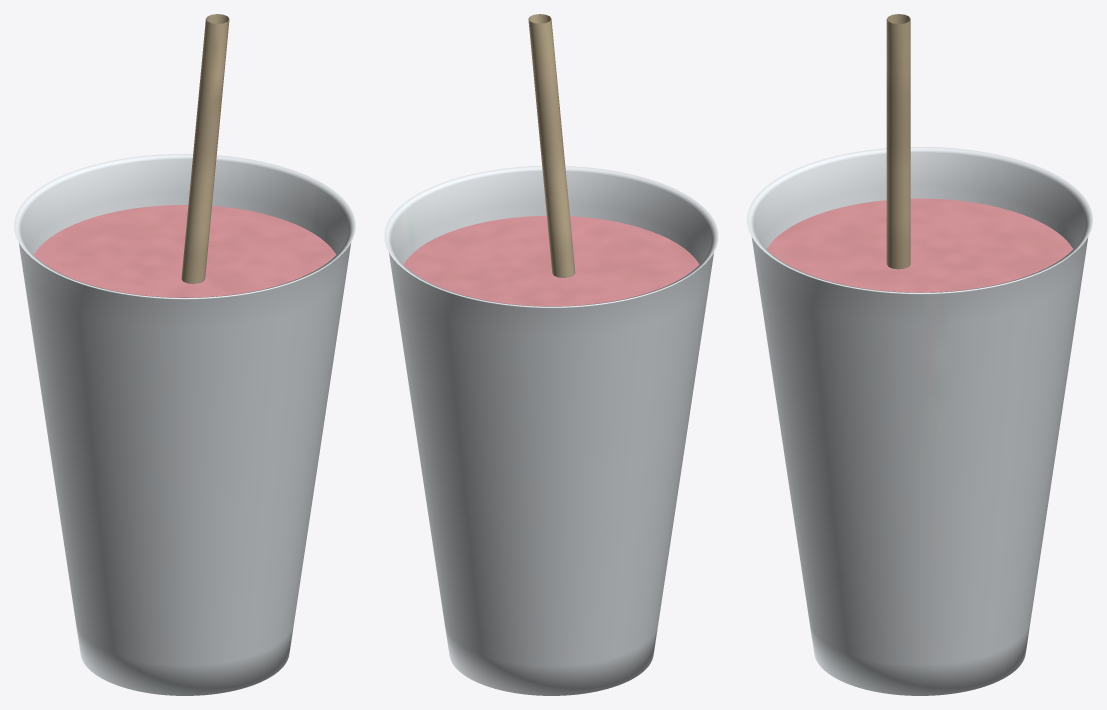
File: banana-strawberry.glb
3 views of the same model, side by side, from view 1: azimuth 30°, elevation 25°; view 2: azimuth 150°, elevation 25°; view 3: azimuth 270°, elevation 25° (orthographic). The views are drawn at different scales.
Visible parts, largest first — view 1: clear, gloss, satin; view 2: clear, gloss, satin; view 3: clear, gloss, satin.
Boxes of the visible parts, bbox=[...] form: clear: bbox=[14, 153, 355, 695]; gloss: bbox=[34, 205, 335, 297]; satin: bbox=[181, 14, 229, 283]; clear: bbox=[384, 166, 718, 695]; gloss: bbox=[403, 215, 699, 306]; satin: bbox=[528, 14, 575, 277]; clear: bbox=[747, 147, 1092, 695]; gloss: bbox=[767, 198, 1072, 292]; satin: bbox=[886, 14, 910, 269].
Bounding box in the file's own units: 0.098 × 0.201 × 0.098.
3 materials, 3 textured.
